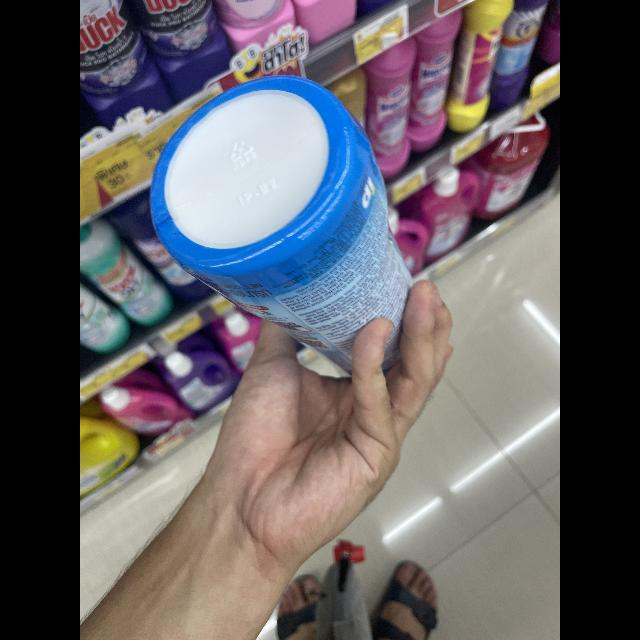chemical_plastic_bottle: (136, 66, 424, 386)
